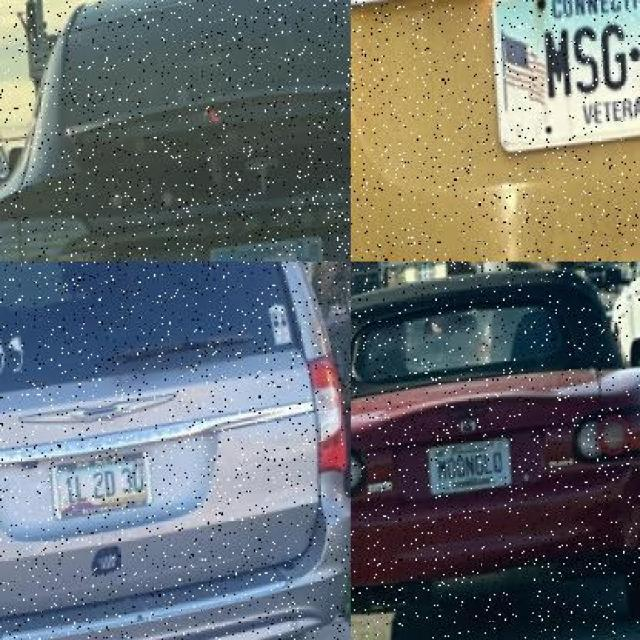LicensePlate: (494, 0, 639, 153), (57, 447, 160, 517), (434, 433, 519, 493), (216, 230, 332, 261)
